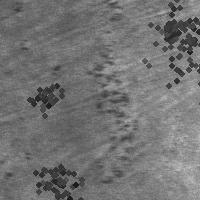rolled-in_scale: (79, 36, 140, 193), (125, 0, 200, 103), (21, 145, 93, 200), (143, 1, 195, 53), (20, 74, 64, 118)
